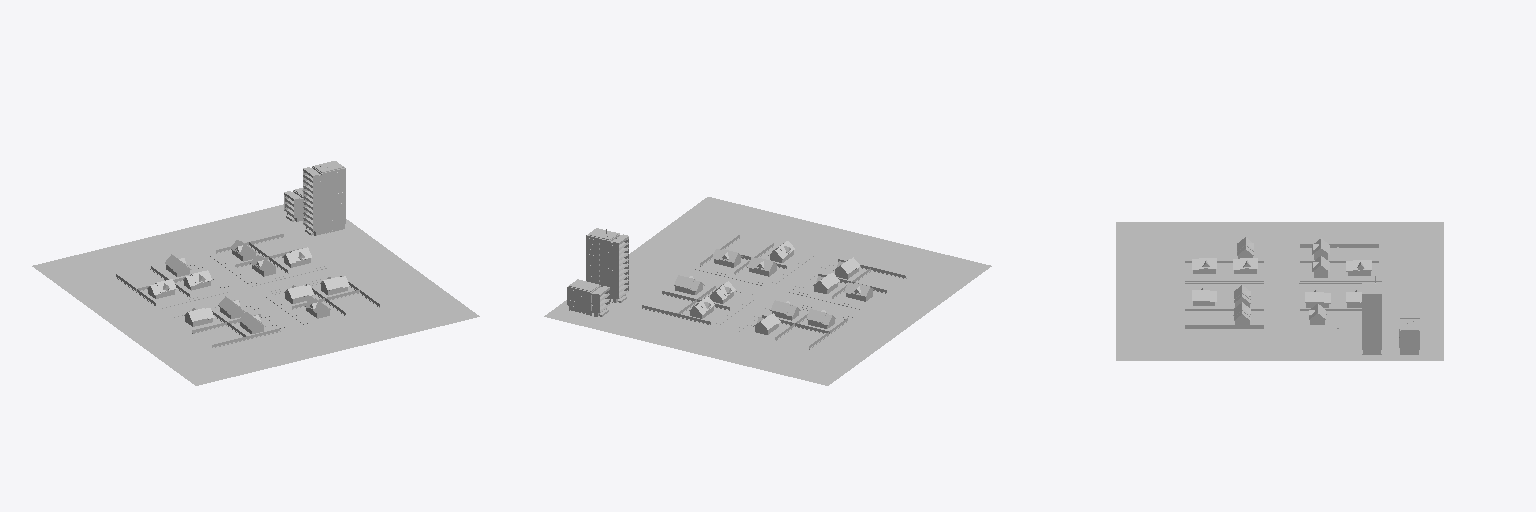
The model's file is world.obj.
3 renders of one model, left to right at view 1: azimuth 30°, elevation 25°; view 2: azimuth 150°, elevation 25°; view 3: azimuth 270°, elevation 25°, orthographic.
Visible parts, largest first — view 1: Cube.049; view 2: Cube.049; view 3: Cube.049.
Part boxes in pixels (x1,y1,x2,y2): Cube.049: (32, 161, 479, 385); Cube.049: (544, 197, 991, 385); Cube.049: (1116, 222, 1443, 360).
Size of the model in its own units: 200 by 47.5 by 200.